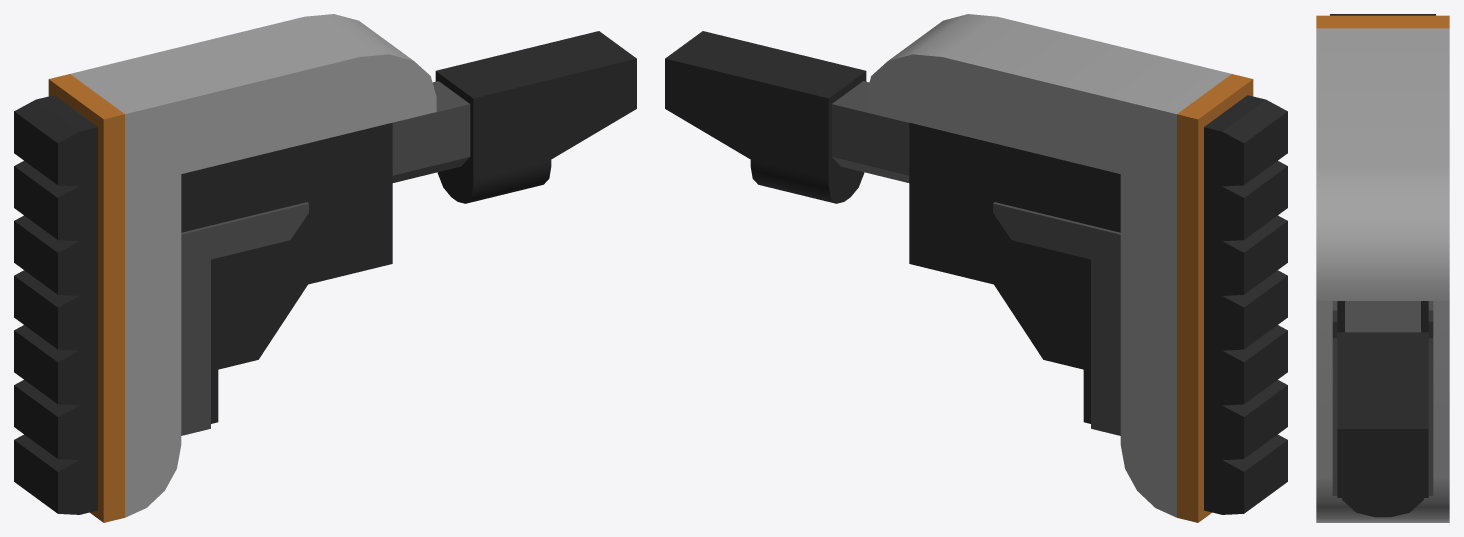
Rendered from quaternius-modular-sci-fi-guns-stock-grenade-1.glb.
The picture shows the model from 3 angles, left to right: view 1: azimuth 30°, elevation 25°; view 2: azimuth 150°, elevation 25°; view 3: azimuth 270°, elevation 25°; orthographic projection. The views are drawn at different scales.
Visible parts, largest first — view 1: Stock_Grenade_1; view 2: Stock_Grenade_1; view 3: Stock_Grenade_1.
Boxes of the visible parts, x1,y1,x2,y2 form: Stock_Grenade_1: (14,14,636,522); Stock_Grenade_1: (665,14,1287,522); Stock_Grenade_1: (1316,14,1449,522).
Bounding box in the file's own units: 0.6669 × 0.4419 × 0.1094.
